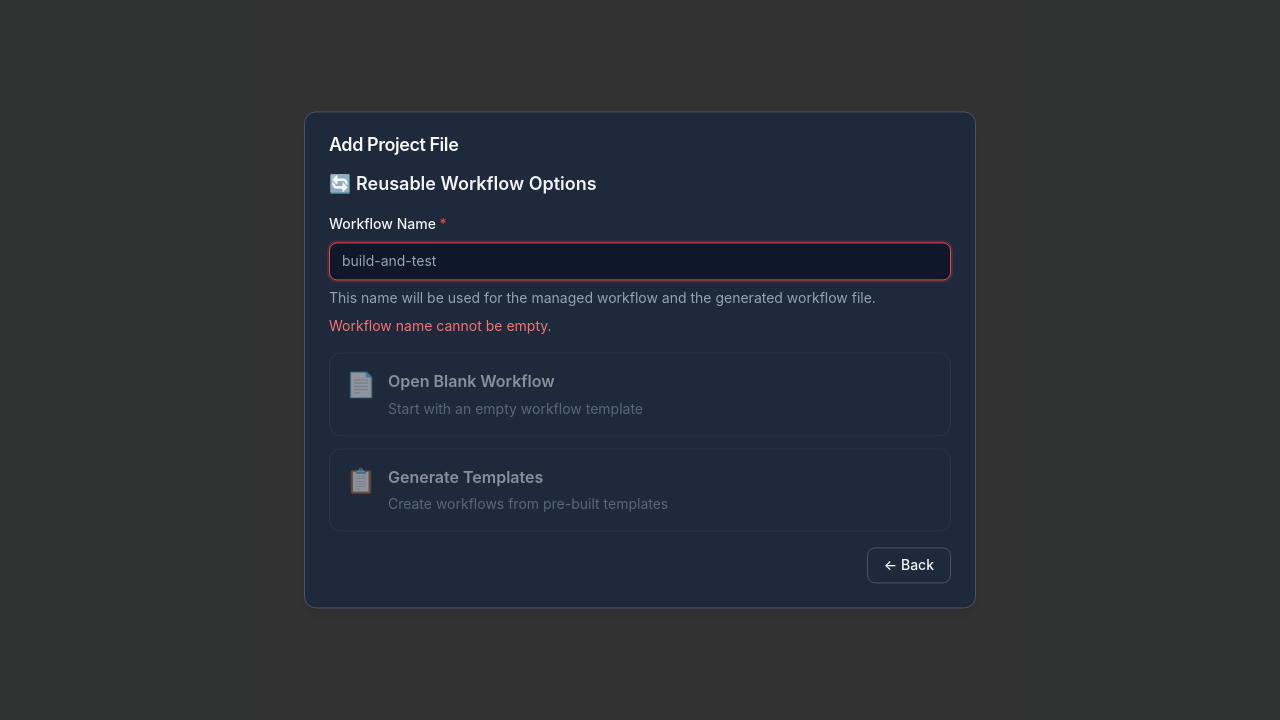
Scenario: WorkflowCreationDialog › shows inline validation for unsafe and duplicate workflow names
Type "bad/name" into the field labelled "Workflow Name *" at (640, 261), box [329, 242, 951, 280]
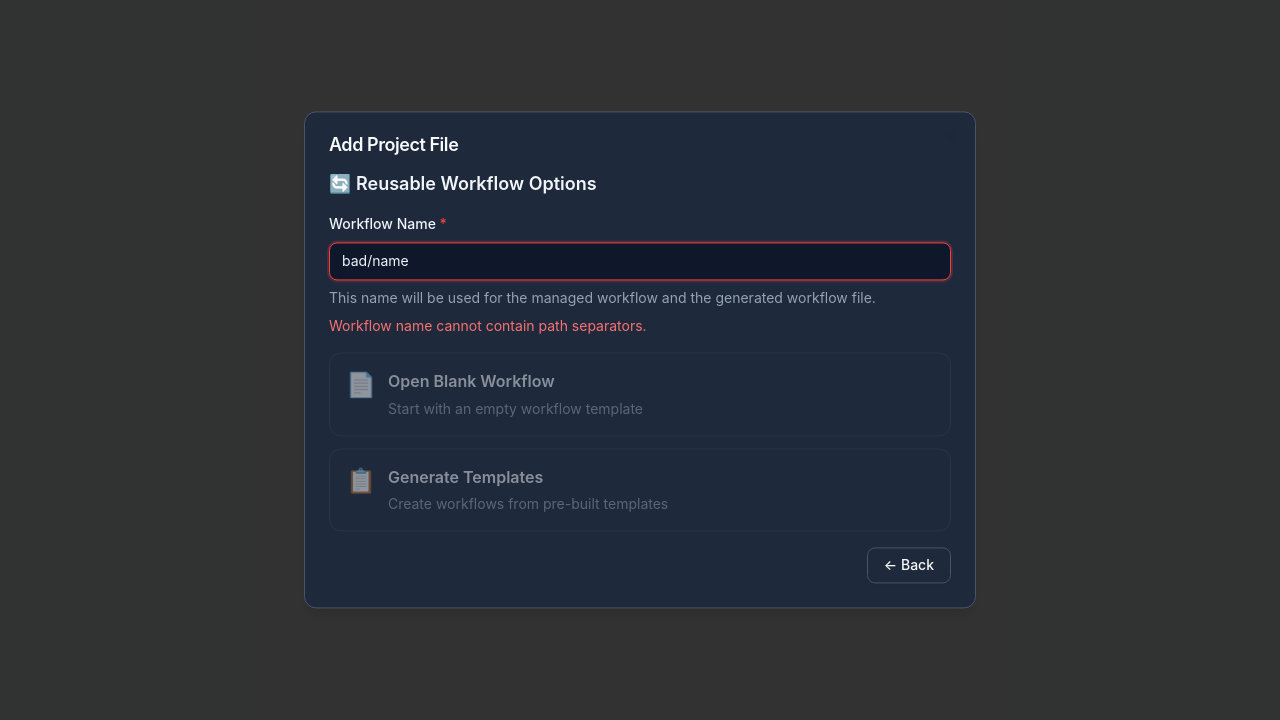
Expected: the button "📄 Open Blank Workflow Start with an empty workflow template" is disabled, [329, 352, 951, 436]
Result: the text "Workflow name cannot contain path separators." is shown at [329, 317, 647, 334]
Replace the text in the field labelled "Workflow Name *" with "Existing-Workflow" at (640, 261), box [329, 242, 951, 280]
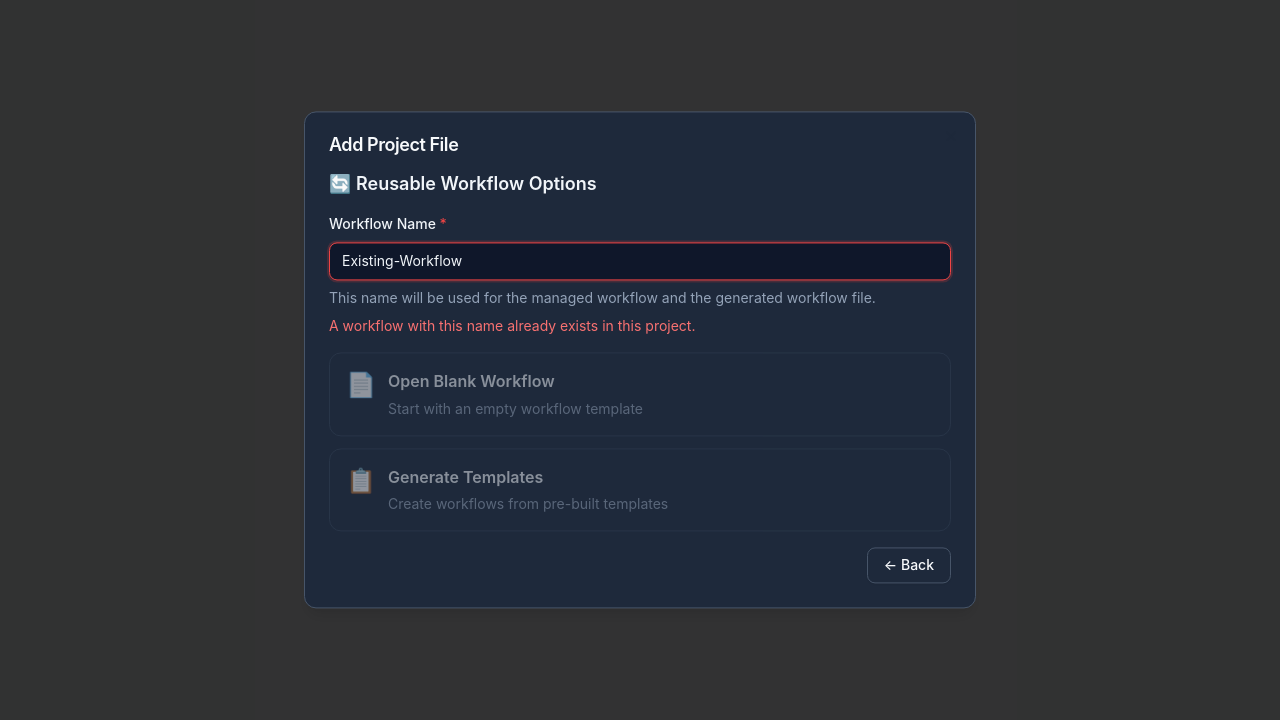
Result: the text "A workflow with this name already exists in this project." is shown at [329, 317, 696, 334]
